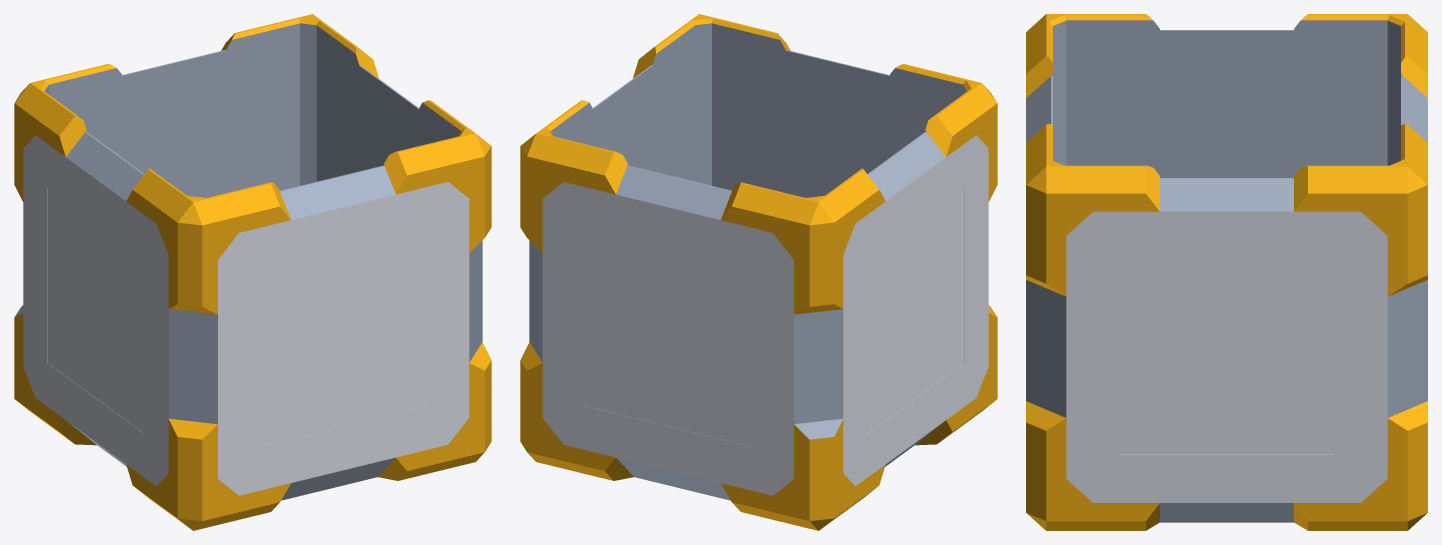
Rendered from container-yellow.obj.
3 renders of one model, left to right at view 1: azimuth 30°, elevation 25°; view 2: azimuth 150°, elevation 25°; view 3: azimuth 270°, elevation 25°, orthographic. The views are drawn at different scales.
Visible parts, largest first — view 1: seal_985, body_485, acc_1; view 2: seal_985, body_485, acc_1; view 3: seal_985, body_485, acc_1.
Boxes of the visible parts, left/top/right/bottom form: seal_985: left=23, top=135, right=469, bottom=495; body_485: left=15, top=23, right=482, bottom=500; acc_1: left=14, top=14, right=491, bottom=530; seal_985: left=542, top=135, right=988, bottom=495; body_485: left=529, top=23, right=967, bottom=500; acc_1: left=520, top=14, right=997, bottom=530; seal_985: left=1066, top=211, right=1387, bottom=502; body_485: left=1026, top=20, right=1427, bottom=522; acc_1: left=1026, top=14, right=1427, bottom=530.
Bounding box in the file's own units: 0.12 × 0.12 × 0.12.
